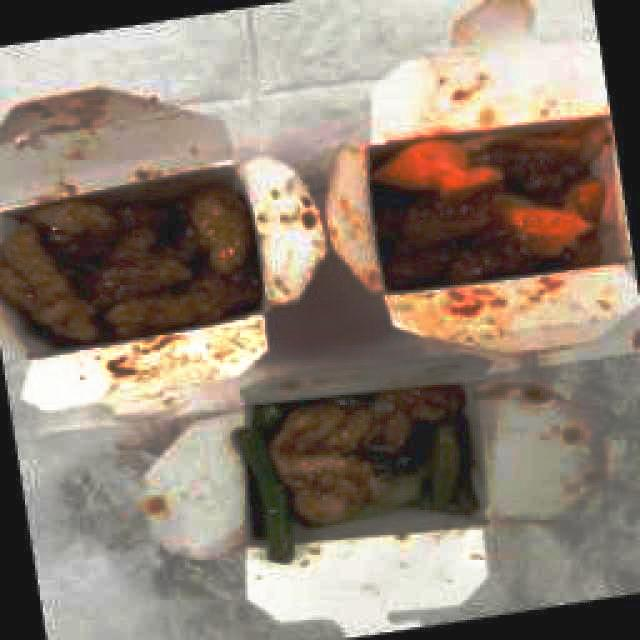Beijing Beef: (363, 136, 611, 291)
Kung Pao Chicken: (2, 174, 263, 347)
